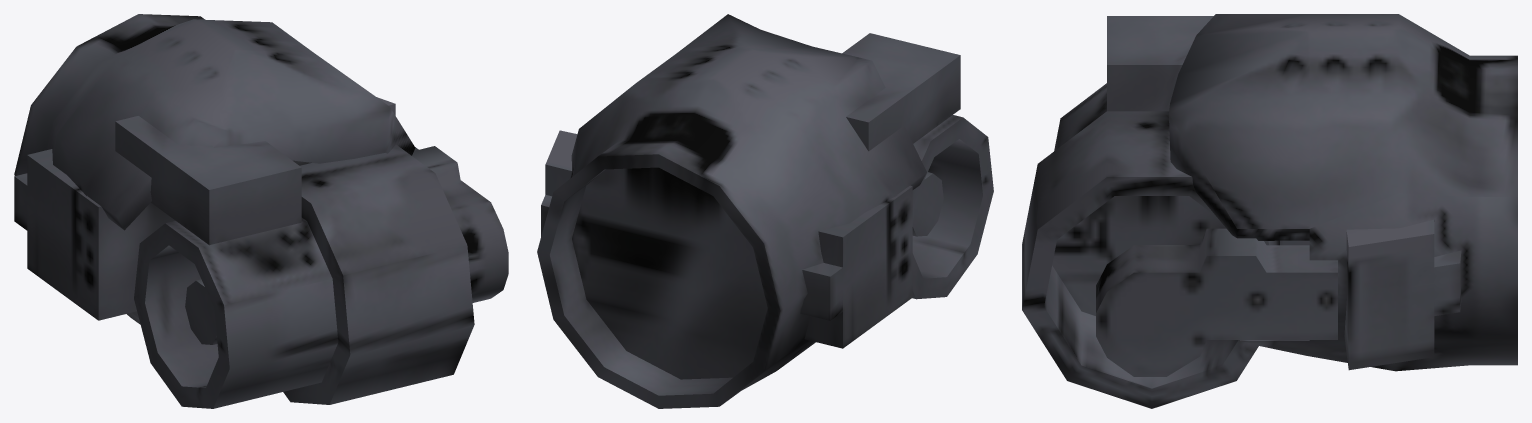
The model's file is r_farm.dae.
3 renders of one model, left to right at view 1: azimuth 30°, elevation 25°; view 2: azimuth 150°, elevation 25°; view 3: azimuth 270°, elevation 25°, orthographic. The views are drawn at different scales.
Visible parts, largest first — view 1: r_farm; view 2: r_farm; view 3: r_farm.
Part boxes in pixels (<box>): r_farm: <box>14,14,508,408</box>; r_farm: <box>537,14,993,408</box>; r_farm: <box>1022,14,1517,408</box>.
Bounding box in the file's own units: 0.1468 × 0.1769 × 0.1261.
1 material, 1 textured.
